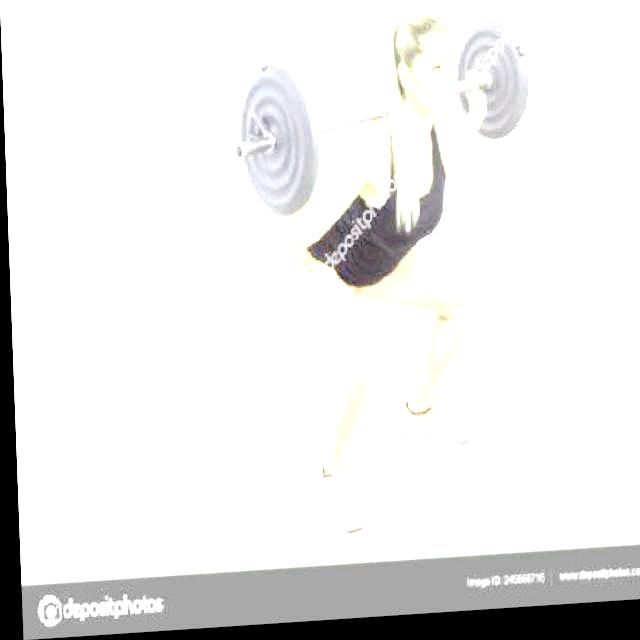barbell: (227, 60, 327, 228)
